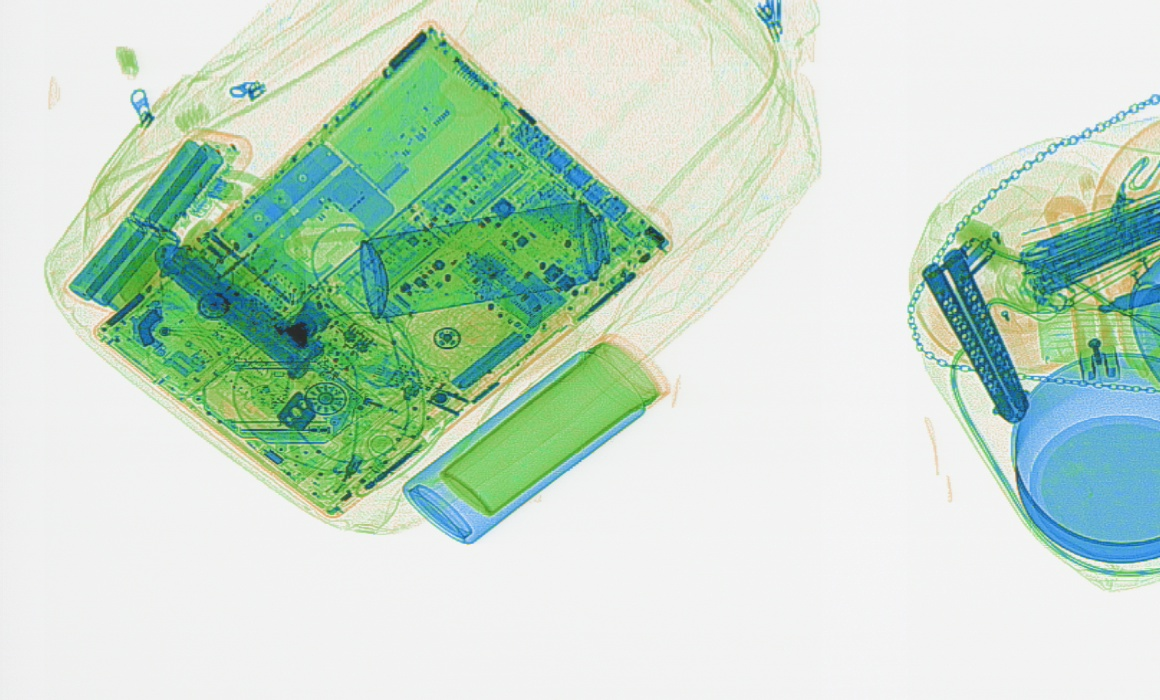knife: (155, 244, 329, 382), (918, 248, 1032, 424)
powerbank: (62, 124, 253, 316)
pressure: (358, 198, 608, 321)
